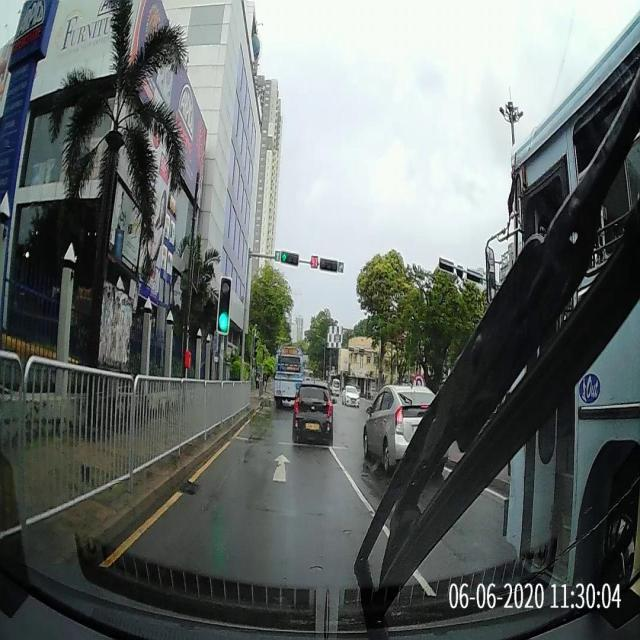Liniya 1: (99, 489, 186, 567), (188, 419, 252, 483), (328, 447, 376, 518), (413, 570, 437, 597), (484, 488, 506, 500), (382, 525, 390, 538)
Liniya 2: (235, 436, 348, 449)
Strelka vpered: (272, 454, 291, 483)
